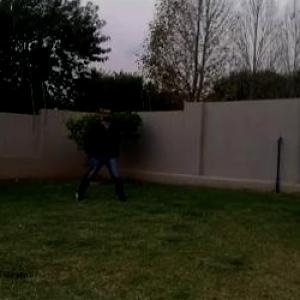follow: (94, 101, 118, 203)
